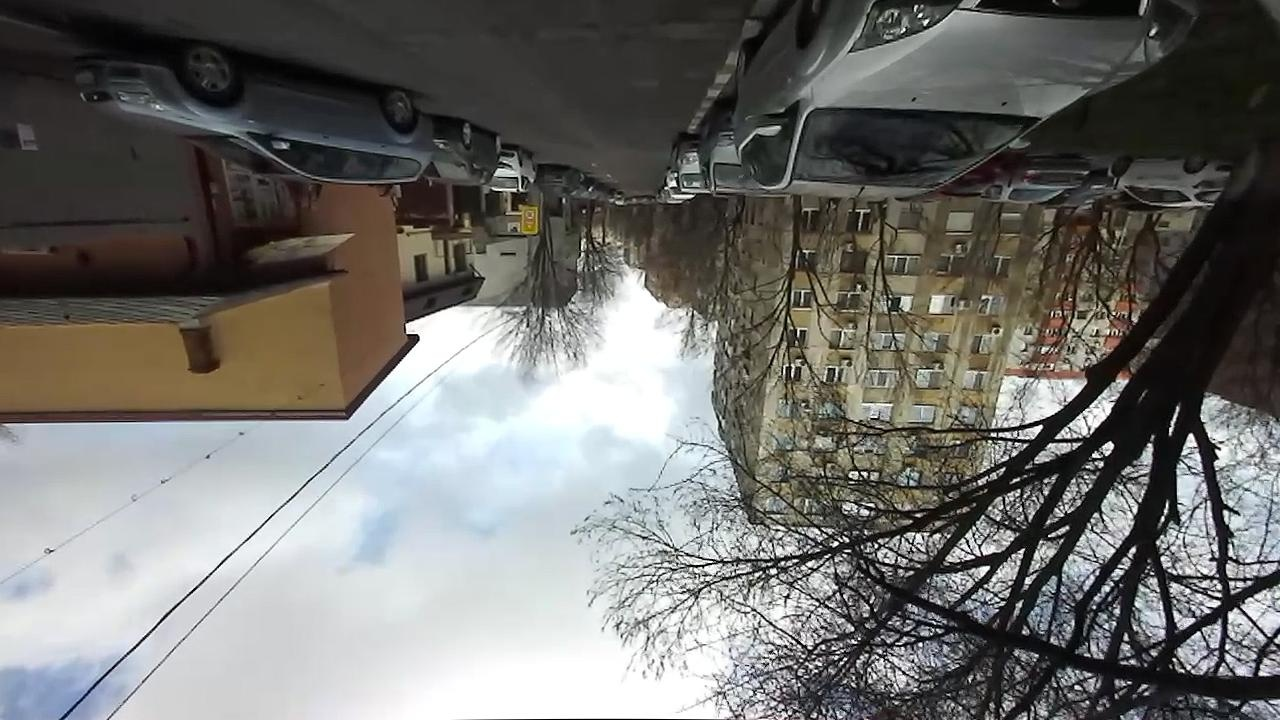pothole: (575, 18, 650, 43)
